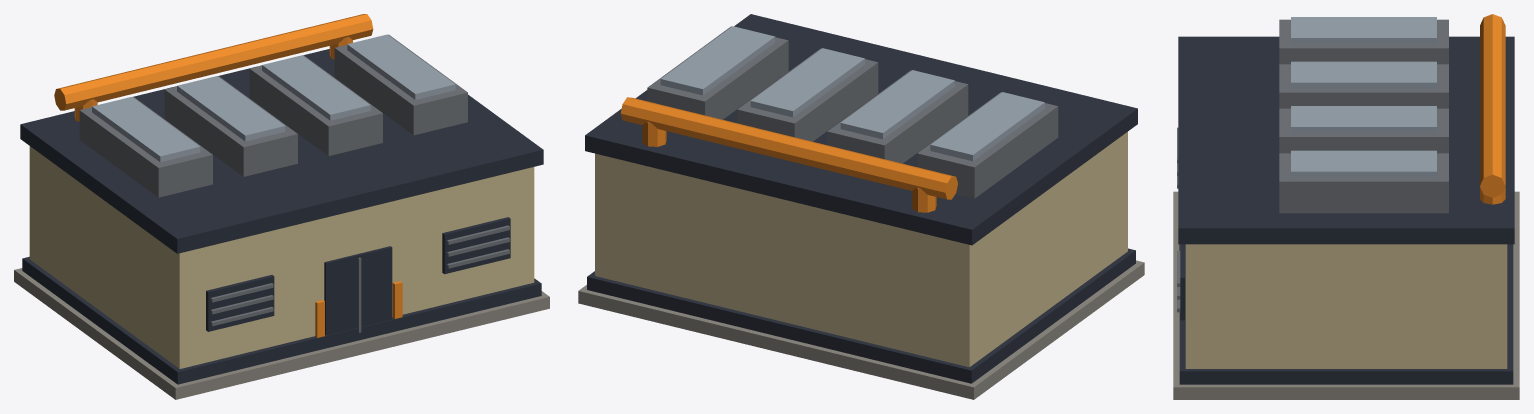
File: installation-pump-house.glb
3 renders of one model, left to right at view 1: azimuth 30°, elevation 25°; view 2: azimuth 150°, elevation 25°; view 3: azimuth 270°, elevation 25°, orthographic. The views are drawn at different scales.
Visible parts, largest first — view 1: installation_pump_house; view 2: installation_pump_house; view 3: installation_pump_house.
Boxes of the visible parts, x1,y1,x2,y2 form: installation_pump_house: (14,14,549,399); installation_pump_house: (578,14,1144,399); installation_pump_house: (1173,14,1519,399).
Bounding box in the file's own units: 7.92 × 3.92 × 5.92.
